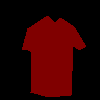abbigliamento_uomo: (21, 15, 86, 97)
